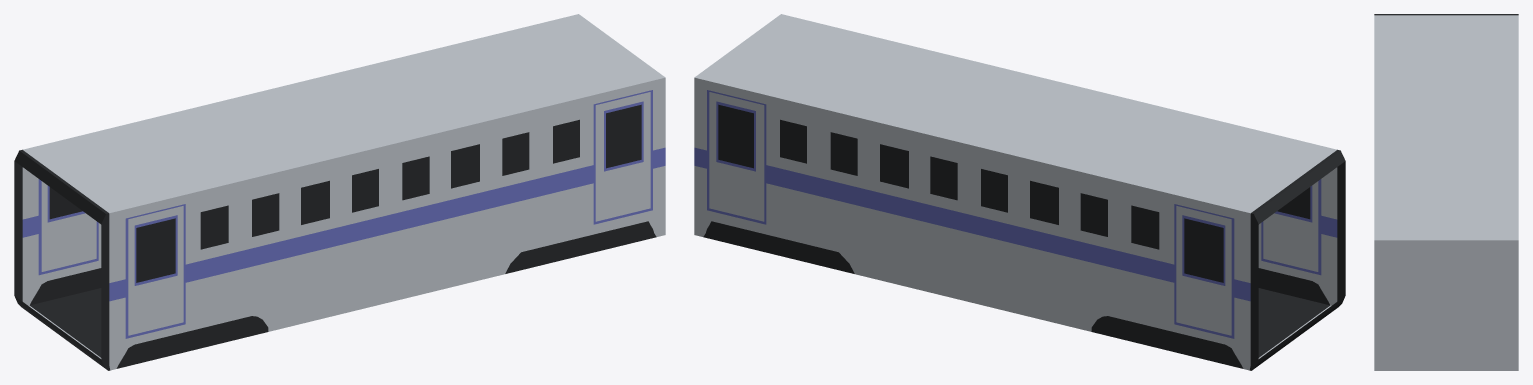
The model's file is White_Train_End_01.fbx.
The picture shows the model from 3 angles, left to right: view 1: azimuth 30°, elevation 25°; view 2: azimuth 150°, elevation 25°; view 3: azimuth 270°, elevation 25°; orthographic projection. The views are drawn at different scales.
Visible parts, largest first — view 1: Body; view 2: Body; view 3: Body.
Part boxes in pixels (x1,y1,x2,y2): Body: [14, 14, 665, 370]; Body: [694, 14, 1345, 370]; Body: [1374, 14, 1518, 370].
Size of the model in its own units: 563 by 150 by 150.
